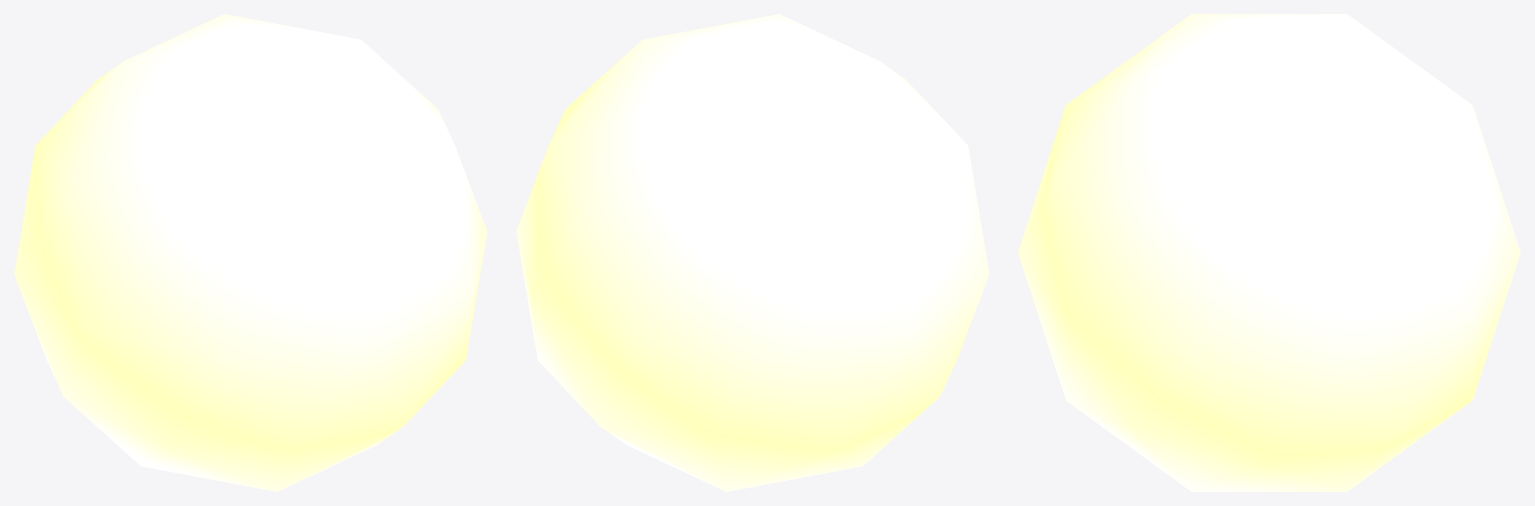
Rendered from orb.glb.
The picture shows the model from 3 angles, left to right: view 1: azimuth 30°, elevation 25°; view 2: azimuth 150°, elevation 25°; view 3: azimuth 270°, elevation 25°; orthographic projection. The views are drawn at different scales.
Visible parts, largest first — view 1: Halo; view 2: Halo; view 3: Halo.
Boxes of the visible parts, box(x1,y1,x2,y2) form: Halo: box(14, 14, 487, 491); Halo: box(516, 14, 989, 491); Halo: box(1018, 14, 1520, 491).
Size of the model in its own units: 0.7989 by 0.84 by 0.84.
